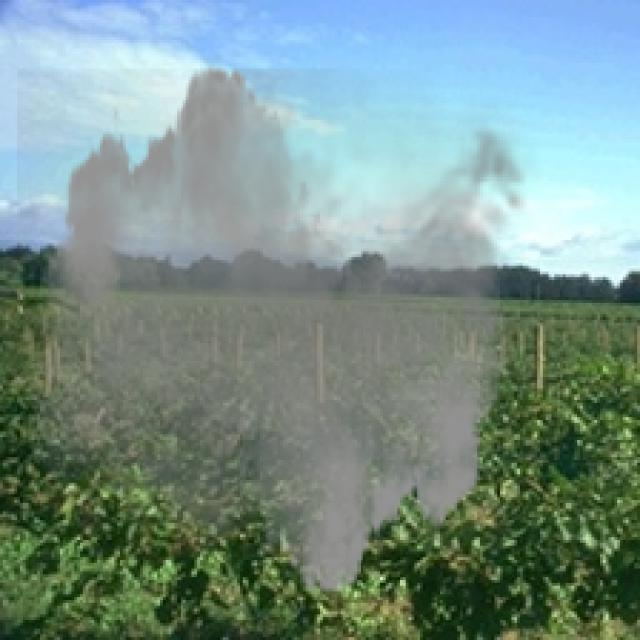smoke: (17, 49, 543, 612)
